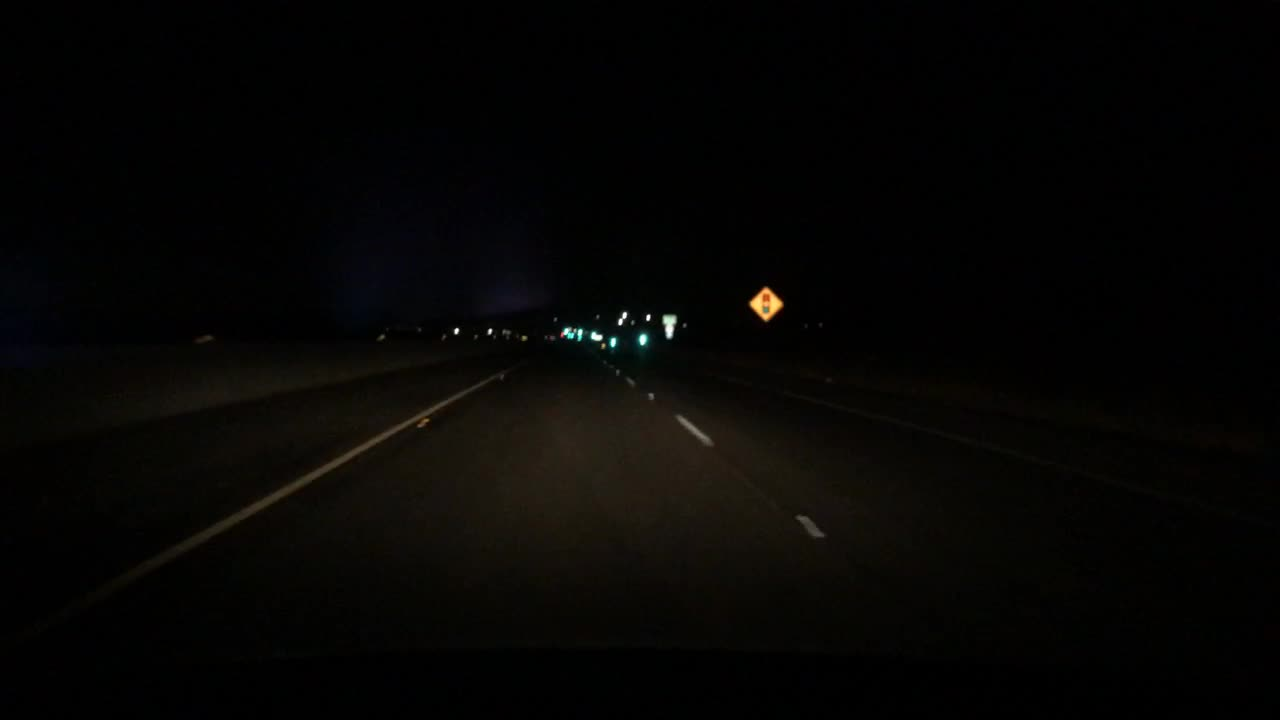traffic light: (639, 332, 646, 346), (609, 335, 616, 347), (567, 331, 575, 337), (576, 333, 581, 341)
traffic sign: (749, 284, 782, 322), (664, 324, 674, 339), (661, 315, 677, 323), (520, 335, 528, 341)
